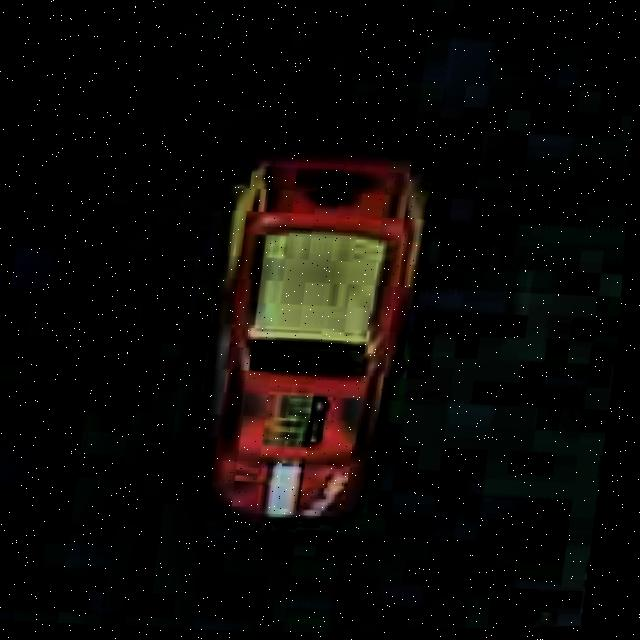car: (175, 131, 445, 540)
